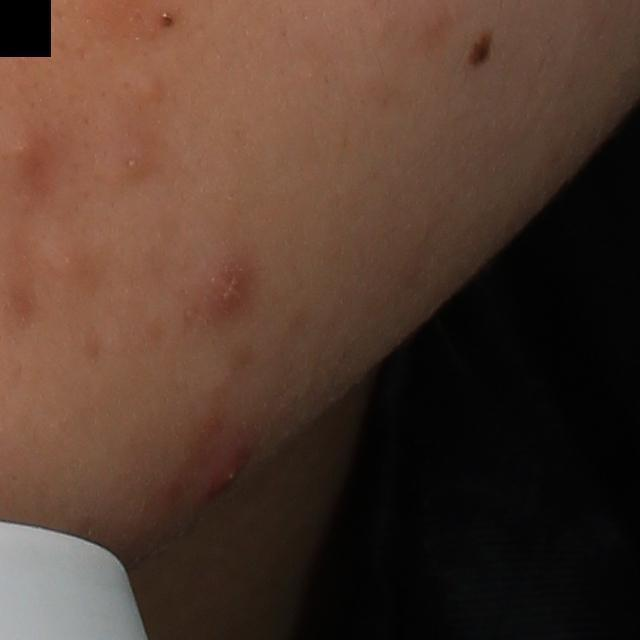comedo: (135, 72, 167, 105)
nevus: (469, 32, 494, 63), (161, 12, 175, 32)
papule: (95, 124, 170, 188), (202, 256, 257, 328), (202, 446, 244, 495)
